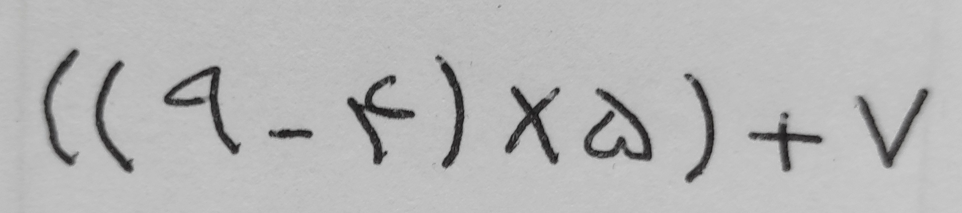character: (160, 57, 244, 159), (345, 72, 415, 169), (853, 86, 931, 170), (583, 81, 657, 164), (92, 58, 139, 176), (747, 106, 827, 172), (40, 44, 83, 166), (503, 84, 565, 168), (681, 71, 719, 184), (433, 52, 468, 171), (266, 122, 316, 143)
